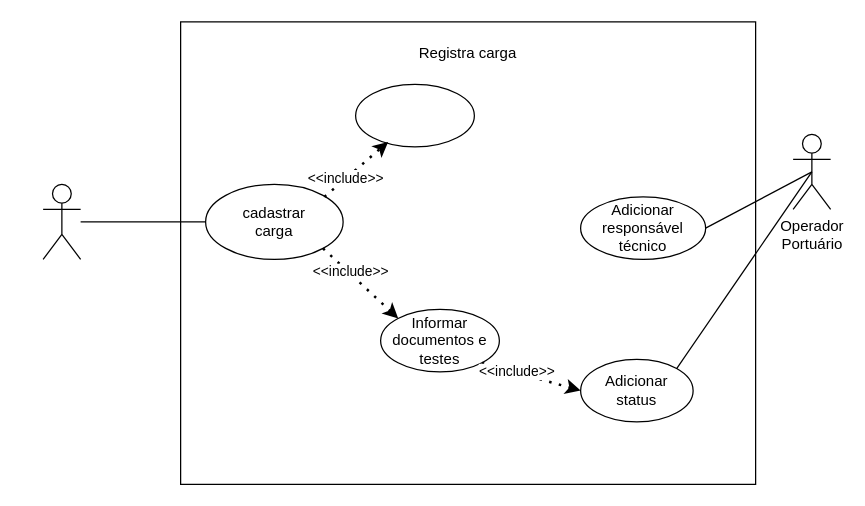
The diagram is 865 pixels wide and 506 high, and some of its shapes have lost their labels. The shapes that lost their labels are listed below. From the top down, each one's box as (x1, y1, x2, y2) in pixels, then its label:
(354, 83, 474, 147): Informar produtos
(42, 183, 81, 259): Embarcador
